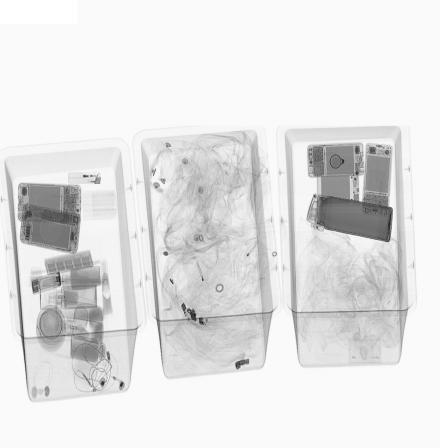Powerbank: (316, 173, 360, 208)
